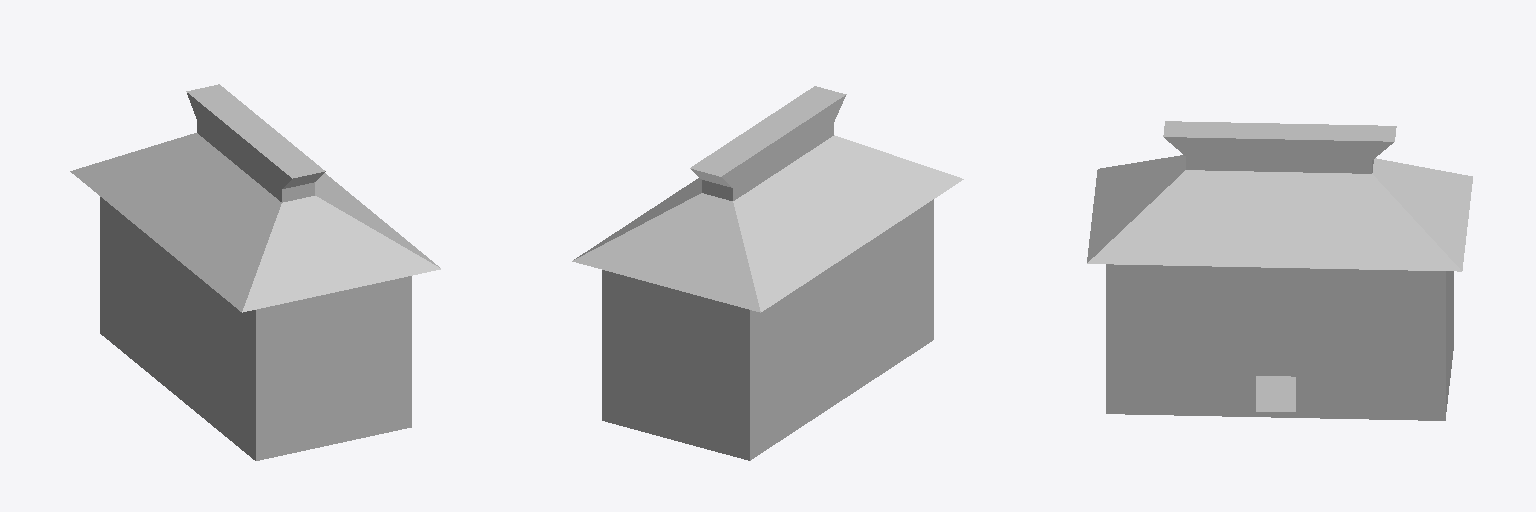
Rendered from house rec.obj.
The picture shows the model from 3 angles: view 1: azimuth 30°, elevation 25°; view 2: azimuth 150°, elevation 25°; view 3: azimuth 270°, elevation 25°; orthographic projection.
Parts seen in each view (by area): view 1: Cube.002, Cube.007; view 2: Cube.002, Cube.007; view 3: Cube.002, Cube.007.
Part boxes in pixels (left/top/right/bottom): Cube.002: left=100, top=197, right=411, bottom=460; Cube.007: left=70, top=84, right=440, bottom=312; Cube.002: left=602, top=199, right=933, bottom=460; Cube.007: left=572, top=86, right=963, bottom=312; Cube.002: left=1106, top=264, right=1453, bottom=420; Cube.007: left=1087, top=121, right=1472, bottom=271.
Size of the model in its own units: 9.31 by 10.53 by 14.81.